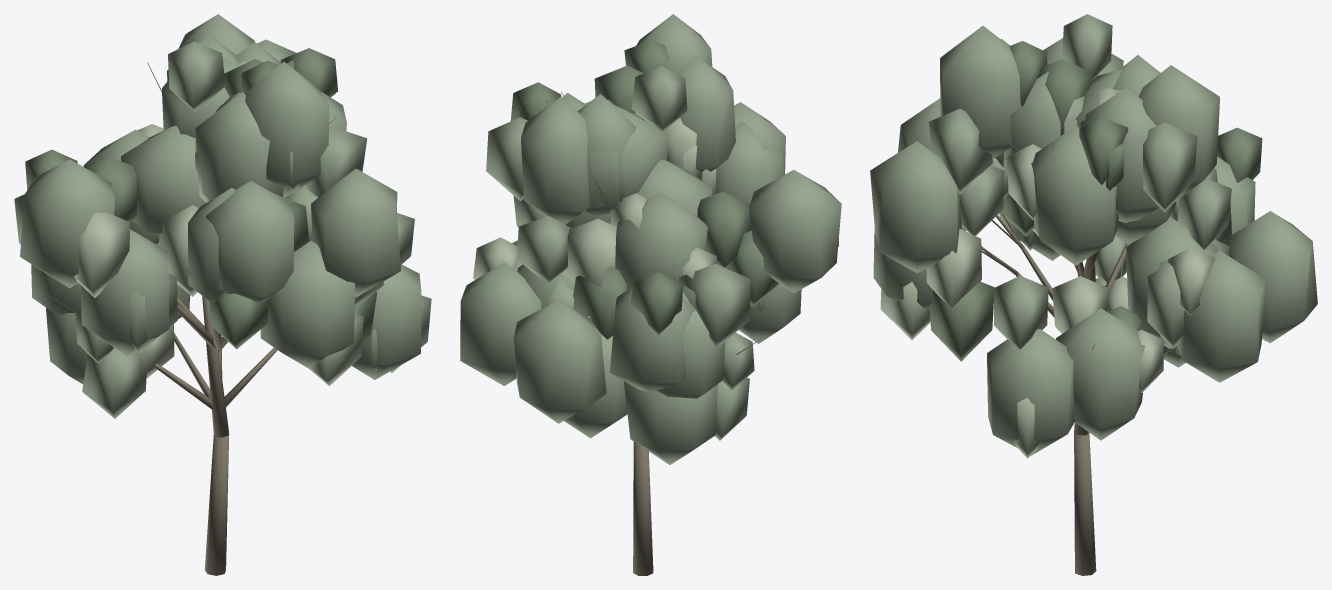
The model's file is SM_MPR3_Tree_0_LOD1.fbx.
3 renders of one model, left to right at view 1: azimuth 30°, elevation 25°; view 2: azimuth 150°, elevation 25°; view 3: azimuth 270°, elevation 25°, orthographic. The views are drawn at different scales.
Parts seen in each view (by area): view 1: SM_MPR3_Tree_0_LOD1; view 2: SM_MPR3_Tree_0_LOD1; view 3: SM_MPR3_Tree_0_LOD1.
Part boxes in pixels (<box>): SM_MPR3_Tree_0_LOD1: <box>14,14,431,575</box>; SM_MPR3_Tree_0_LOD1: <box>460,14,841,575</box>; SM_MPR3_Tree_0_LOD1: <box>870,14,1317,575</box>.
Bounding box in the file's own units: 644 × 643 × 880.
